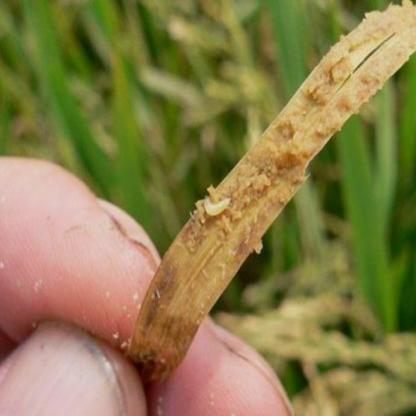whorl-maggot: (200, 190, 238, 220)
